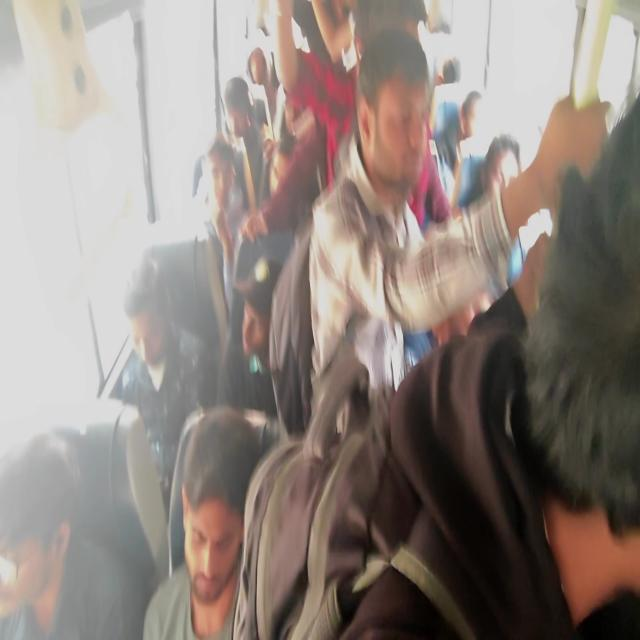person: (116, 5, 635, 636), (338, 92, 638, 638), (304, 26, 612, 436), (511, 92, 639, 637), (231, 350, 390, 638), (242, 0, 358, 246), (142, 405, 262, 638), (110, 253, 215, 516), (0, 429, 126, 639), (148, 134, 245, 402), (218, 234, 286, 450), (194, 134, 246, 321), (223, 75, 271, 214), (432, 89, 482, 210)
